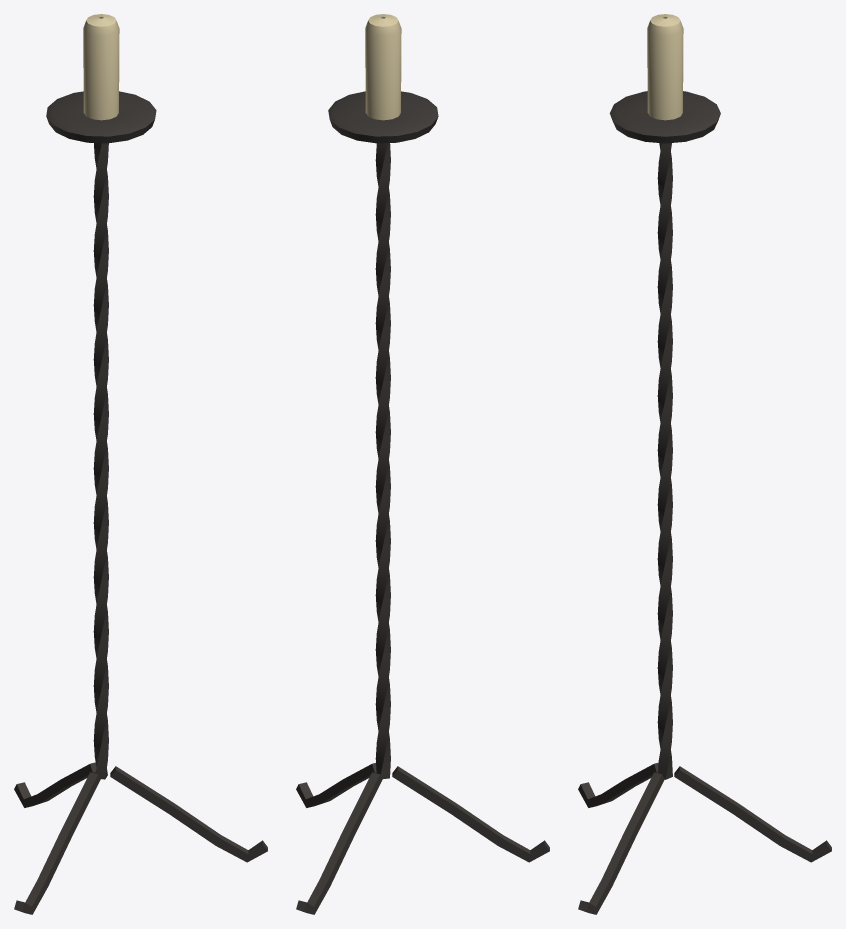
The model's file is floor_candle.glb.
The picture shows the model from 3 angles, left to right: view 1: azimuth 30°, elevation 25°; view 2: azimuth 150°, elevation 25°; view 3: azimuth 270°, elevation 25°; orthographic projection.
Parts seen in each view (by area): view 1: floor_candle; view 2: floor_candle; view 3: floor_candle.
Part boxes in pixels (bbox=[...]): floor_candle: bbox=[14, 14, 267, 914]; floor_candle: bbox=[296, 14, 549, 914]; floor_candle: bbox=[578, 14, 831, 914].
Bounding box in the file's own units: 0.5007 × 1.59 × 0.4336.
